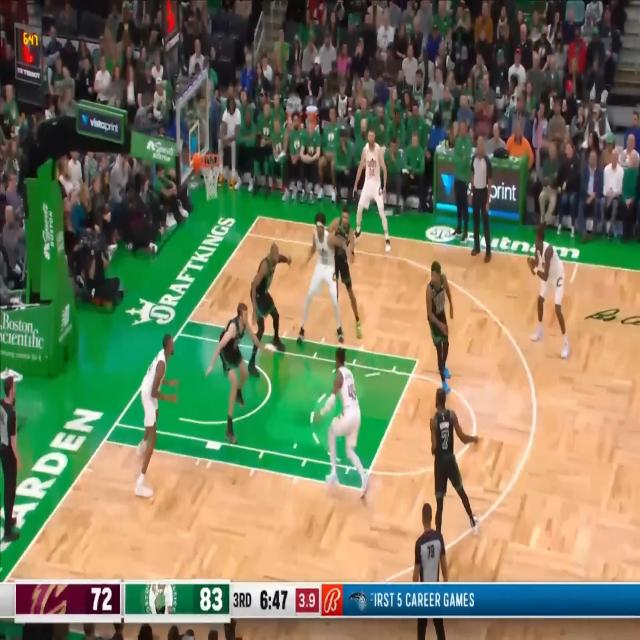Hoop: (201, 153, 223, 201)
Period: (232, 590, 253, 611)
Player: (206, 299, 272, 446), (314, 346, 372, 504), (132, 332, 180, 499), (429, 385, 481, 537), (296, 213, 345, 347), (527, 222, 571, 362), (248, 243, 293, 378), (352, 126, 392, 255), (328, 204, 362, 340), (426, 260, 454, 392), (466, 135, 494, 263)
Ref: (411, 500, 449, 640), (0, 375, 23, 541)
Shot Clock: (298, 591, 316, 611)
Team Points: (199, 585, 224, 613), (90, 585, 114, 614)
Time Remaining: (258, 588, 290, 615)
